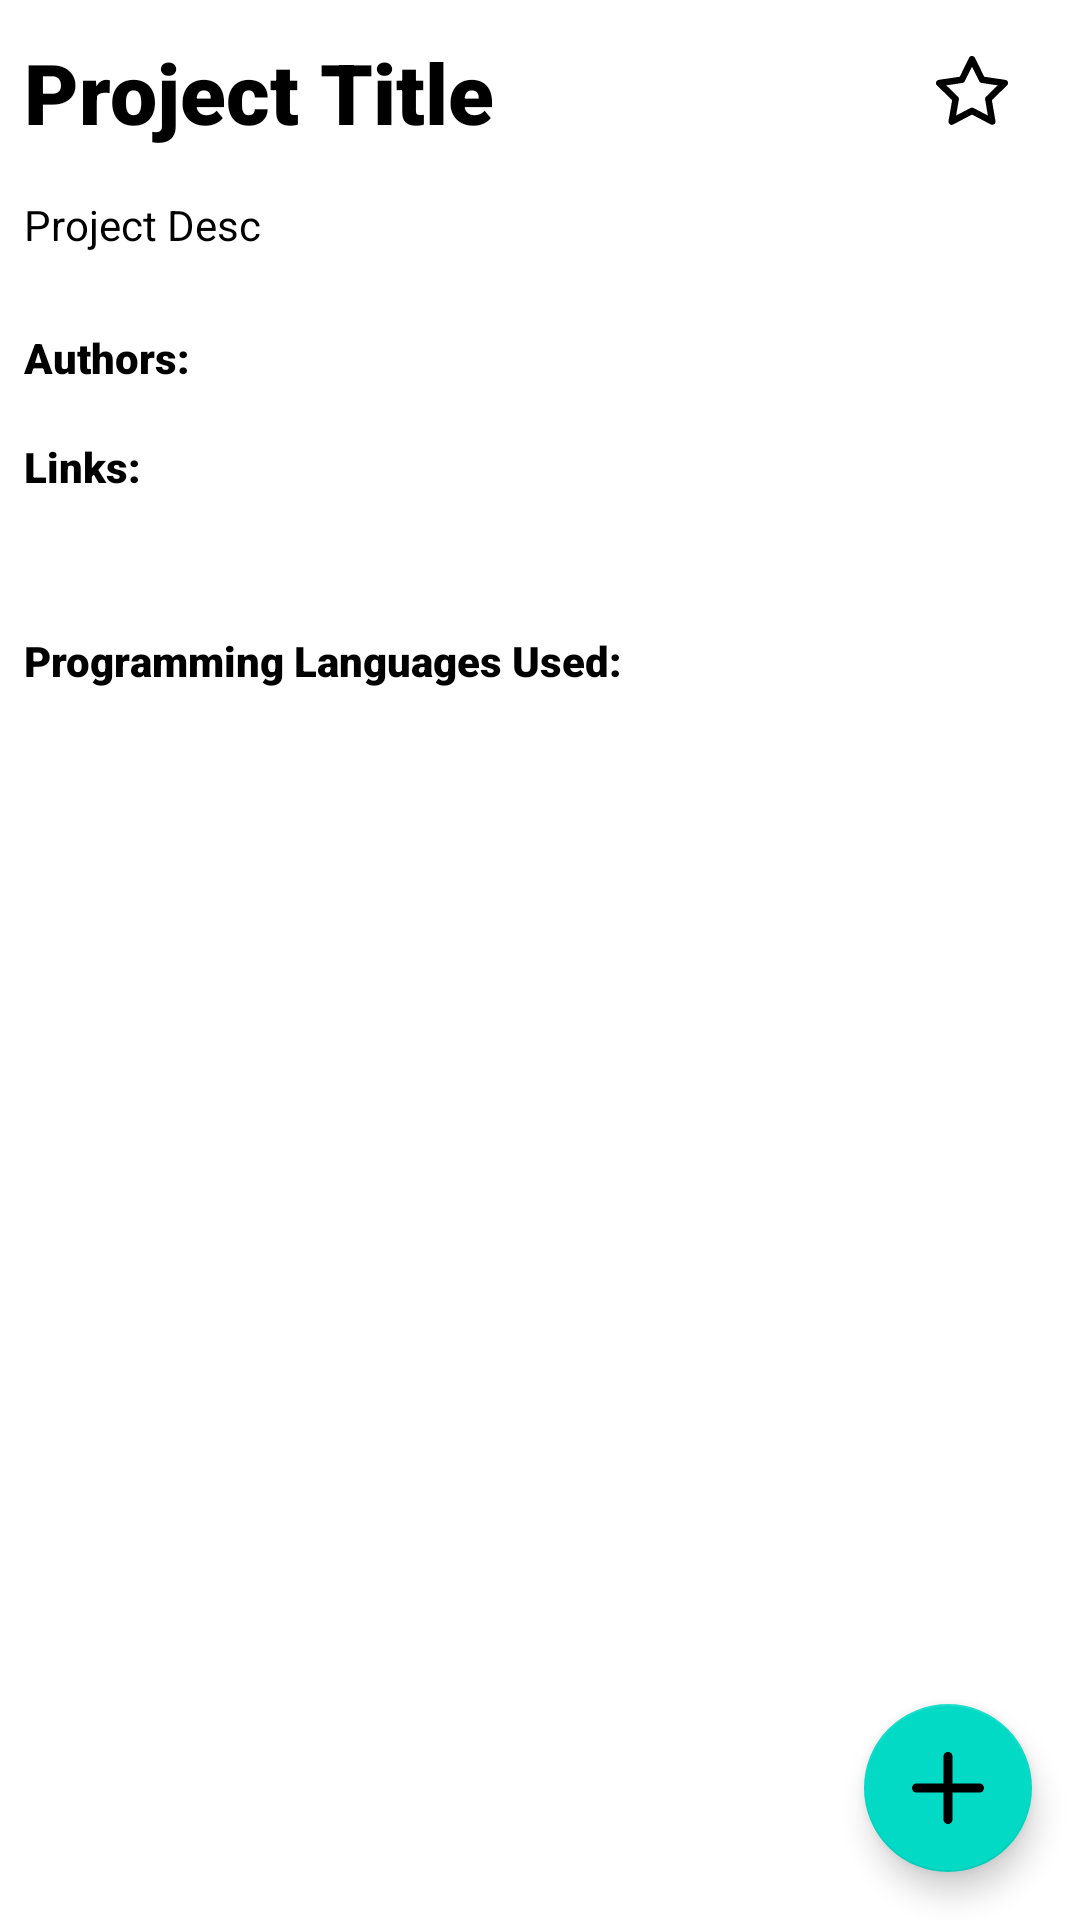

Point at icon controls on the screen. Image size 1080 × 1920, points as point (x, y).
Add Project Details: point (948, 1788)
star false: point (972, 90)
